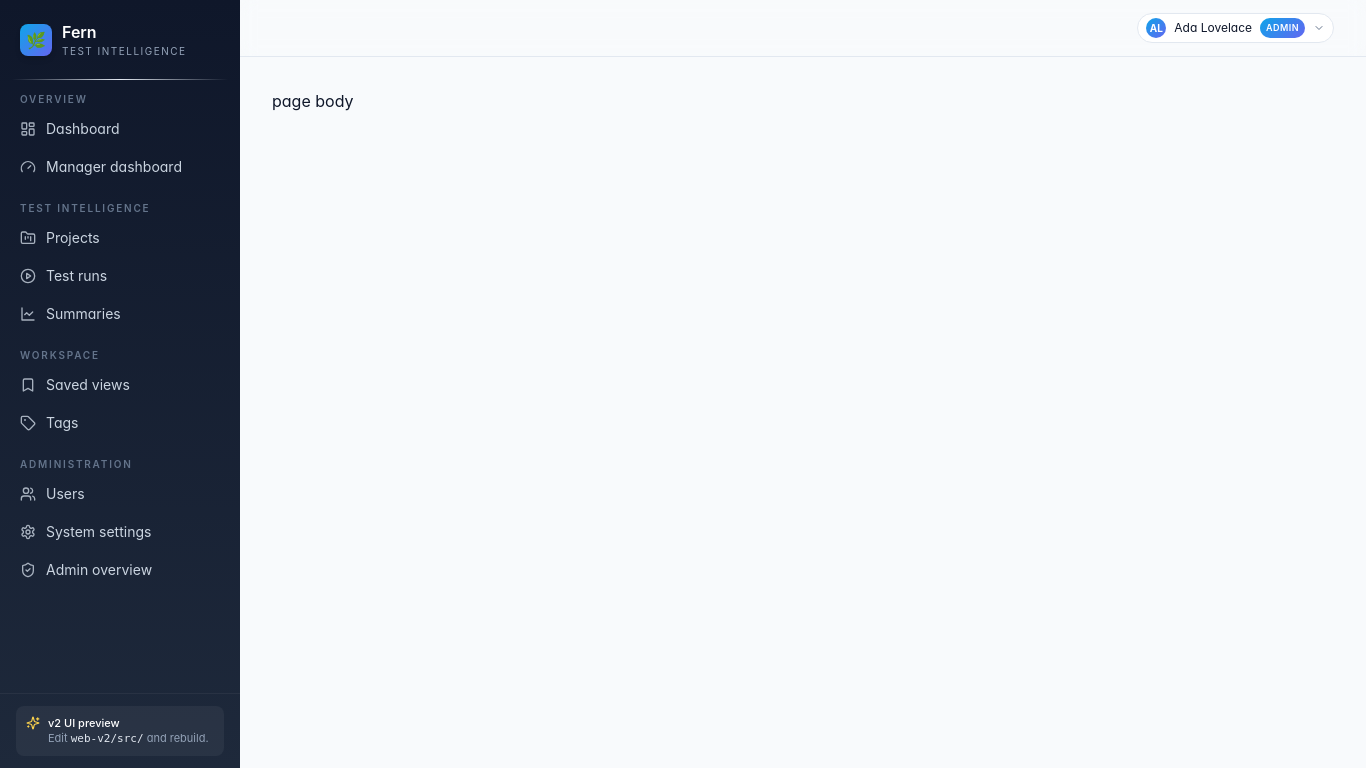
Test case: TopBar user pill › shows Admin Panel link when role is admin
Step 1. Click the button → click(1236, 28), box [1137, 13, 1334, 43]
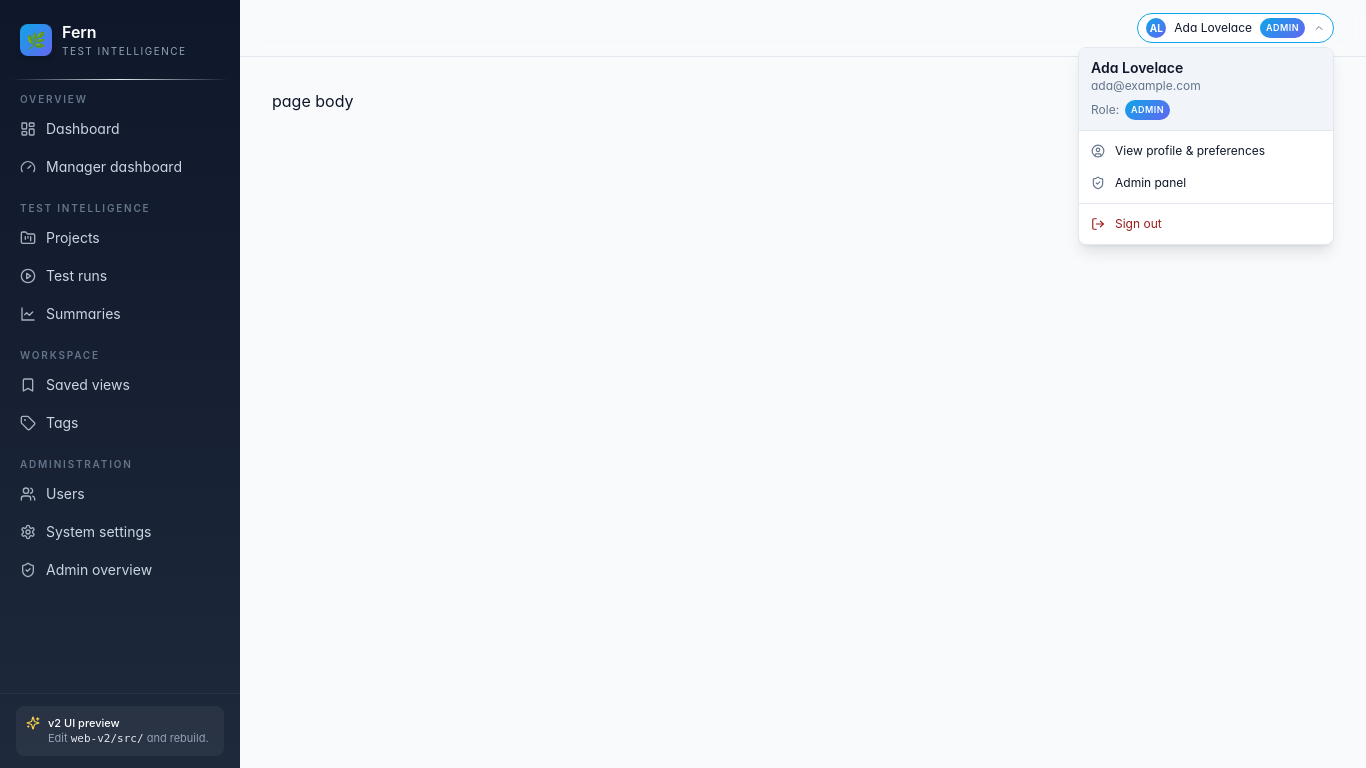
Result: the text "Admin panel" is shown at [1115, 175, 1186, 191]
